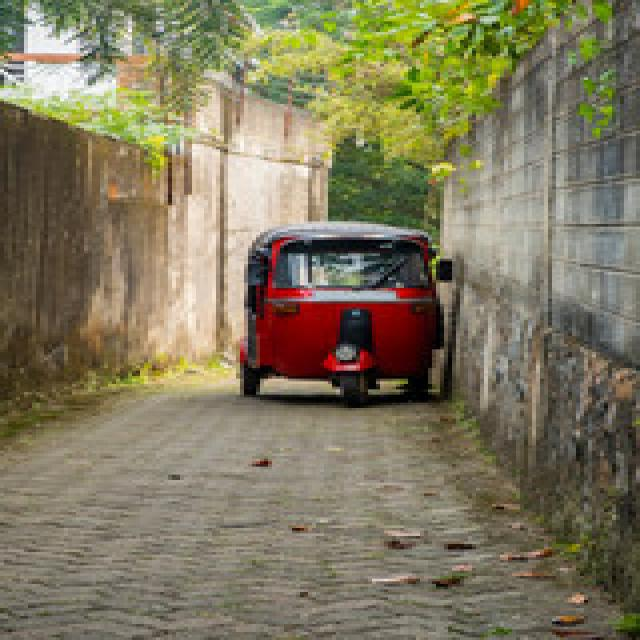three wheeler: (240, 221, 436, 405)
